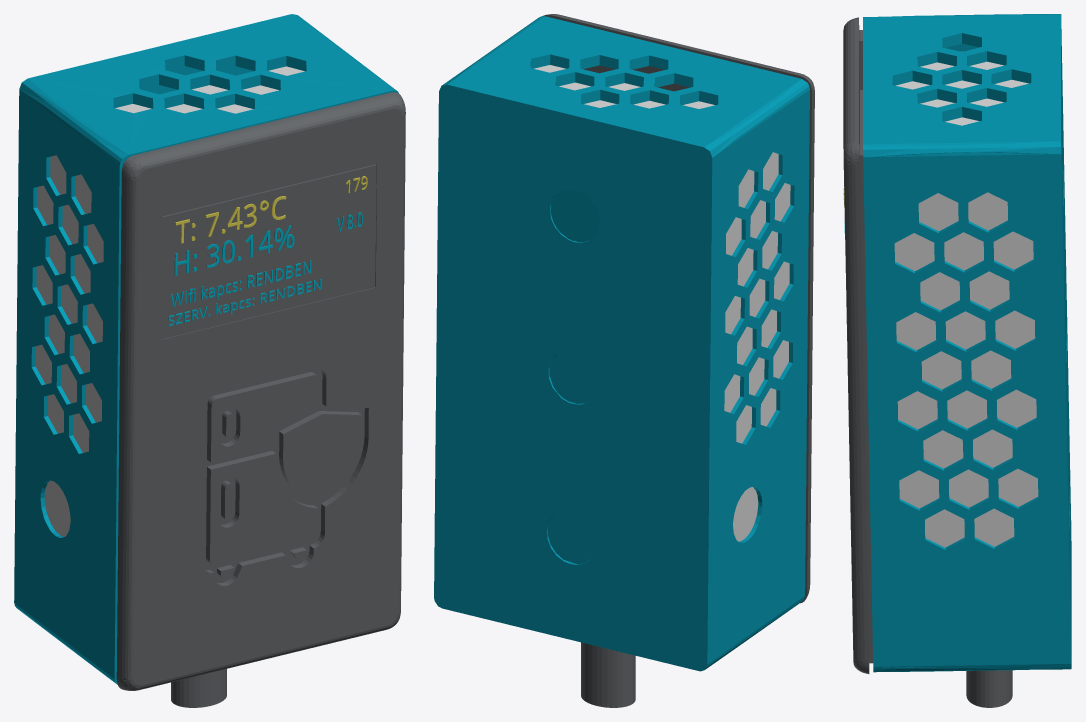
The model's file is kek_fekete.glb.
3 renders of one model, left to right at view 1: azimuth 30°, elevation 25°; view 2: azimuth 150°, elevation 25°; view 3: azimuth 270°, elevation 25°, orthographic. The views are drawn at different scales.
Visible parts, largest first — view 1: Mesh_Mesh_head_geo.001_lambert2SG.001; view 2: Mesh_Mesh_head_geo.001_lambert2SG.001; view 3: Mesh_Mesh_head_geo.001_lambert2SG.001.
Boxes of the visible parts, bbox=[...] form: Mesh_Mesh_head_geo.001_lambert2SG.001: bbox=[14, 14, 405, 707]; Mesh_Mesh_head_geo.001_lambert2SG.001: bbox=[434, 14, 814, 707]; Mesh_Mesh_head_geo.001_lambert2SG.001: bbox=[843, 14, 1071, 707].
Bounding box in the file's own units: 33 × 70.15 × 23.52.
